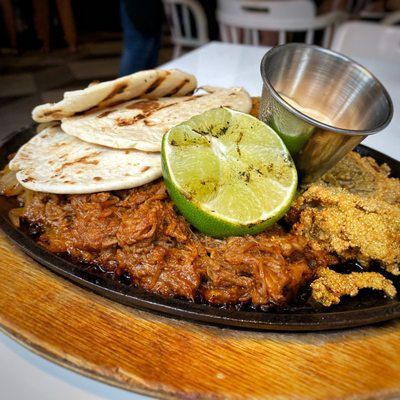pizza: (258, 43, 395, 186)
taco: (160, 108, 298, 239)
